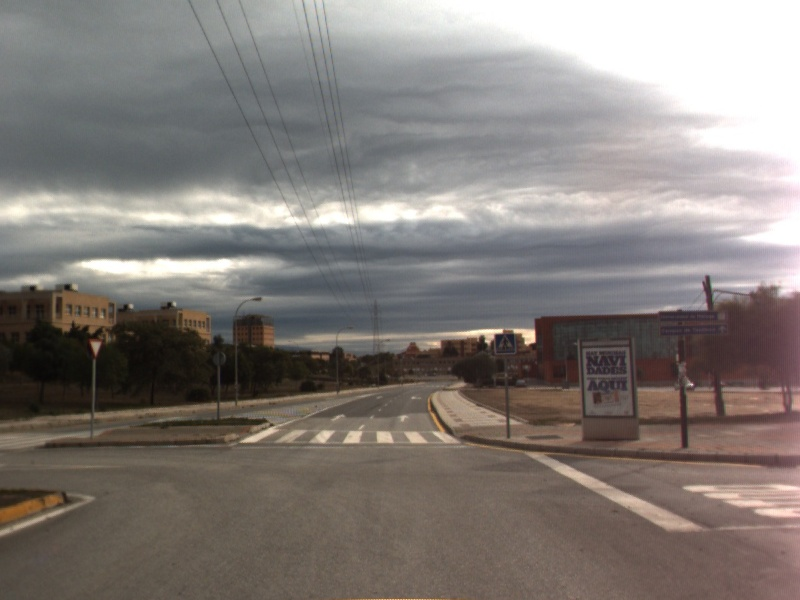STRAIGHT: (328, 411, 348, 424), (394, 412, 412, 424)
